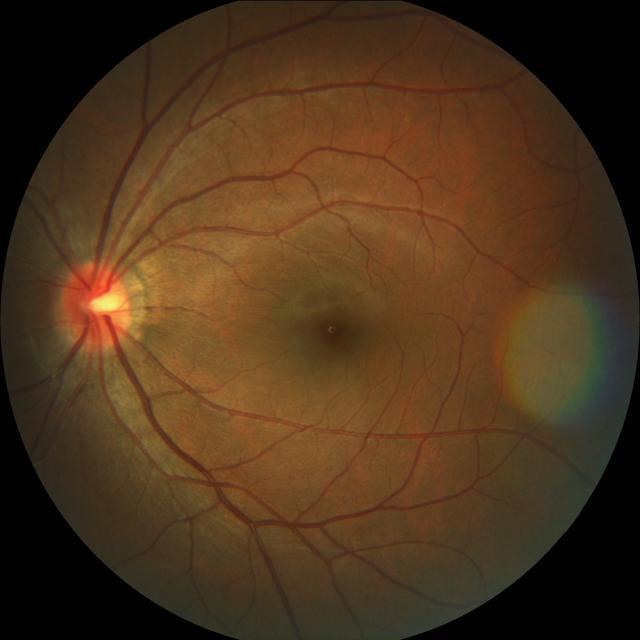OC: (80, 288, 121, 318)
OD: (58, 260, 132, 352)
